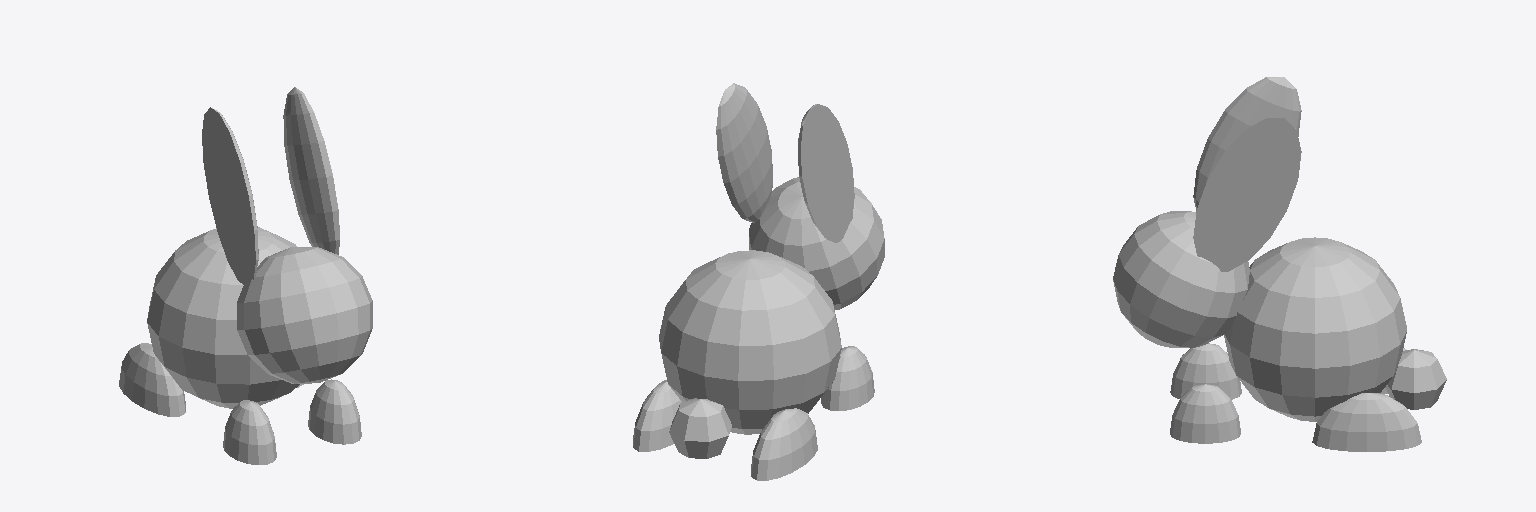
File: rabbit-dig1.obj
3 renders of one model, left to right at view 1: azimuth 30°, elevation 25°; view 2: azimuth 150°, elevation 25°; view 3: azimuth 270°, elevation 25°, orthographic.
Visible parts, largest first — view 1: sphere1, sphere2, sphere4_cut11, sphere4, sphere6_copy8, sphere6_copy11, sphere6_copy10; view 2: sphere2, sphere1, sphere4_cut11, sphere4, sphere6_copy8, sphere3, sphere6_copy11, sphere6_cut7; view 3: sphere2, sphere1, sphere4, sphere6_cut7, sphere4_cut11, sphere6_copy10, sphere3, sphere6_copy11.
Part boxes in pixels (bbox=[...]): sphere1: bbox=[237, 247, 372, 383]; sphere2: bbox=[147, 227, 299, 408]; sphere4_cut11: bbox=[202, 107, 258, 284]; sphere4: bbox=[283, 87, 339, 254]; sphere6_copy8: bbox=[119, 343, 185, 416]; sphere6_copy11: bbox=[223, 400, 276, 464]; sphere6_copy10: bbox=[308, 379, 361, 444]; sphere2: bbox=[659, 250, 841, 434]; sphere1: bbox=[749, 177, 884, 309]; sphere4_cut11: bbox=[798, 104, 854, 242]; sphere4: bbox=[716, 83, 772, 222]; sphere6_copy8: bbox=[751, 408, 817, 480]; sphere3: bbox=[669, 398, 731, 458]; sphere6_copy11: bbox=[821, 346, 874, 410]; sphere6_cut7: bbox=[633, 380, 681, 451]; sphere2: bbox=[1224, 237, 1406, 421]; sphere1: bbox=[1113, 211, 1249, 347]; sphere4: bbox=[1193, 118, 1301, 271]; sphere6_cut7: bbox=[1312, 393, 1421, 451]; sphere4_cut11: bbox=[1193, 77, 1301, 210]; sphere6_copy10: bbox=[1170, 384, 1240, 443]; sphere3: bbox=[1385, 349, 1446, 409]; sphere6_copy11: bbox=[1170, 343, 1241, 399].
Bounding box in the file's own units: 2 × 3.77 × 3.62.